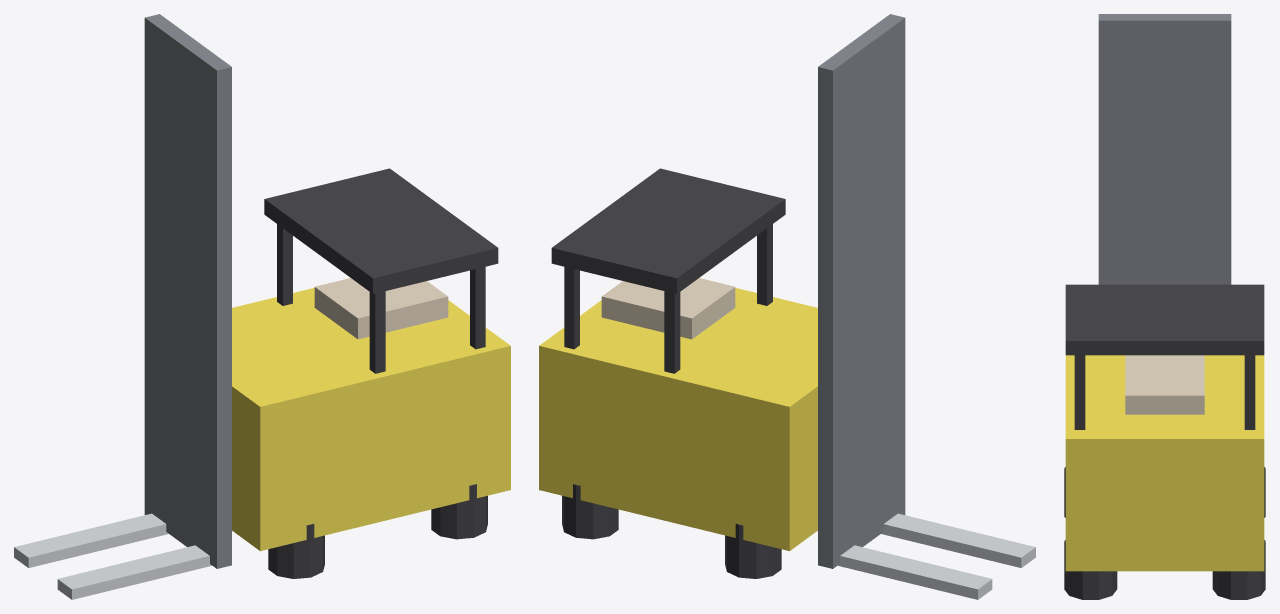
The model's file is forklift.glb.
3 renders of one model, left to right at view 1: azimuth 30°, elevation 25°; view 2: azimuth 150°, elevation 25°; view 3: azimuth 270°, elevation 25°, orthographic. The views are drawn at different scales.
Parts seen in each view (by area): view 1: forklift; view 2: forklift; view 3: forklift.
Boxes of the visible parts, x1,y1,x2,y2 form: forklift: (14,14,510,599); forklift: (539,14,1035,599); forklift: (1064,14,1265,599).
Size of the model in its own units: 1.65 by 1.95 by 0.76.
